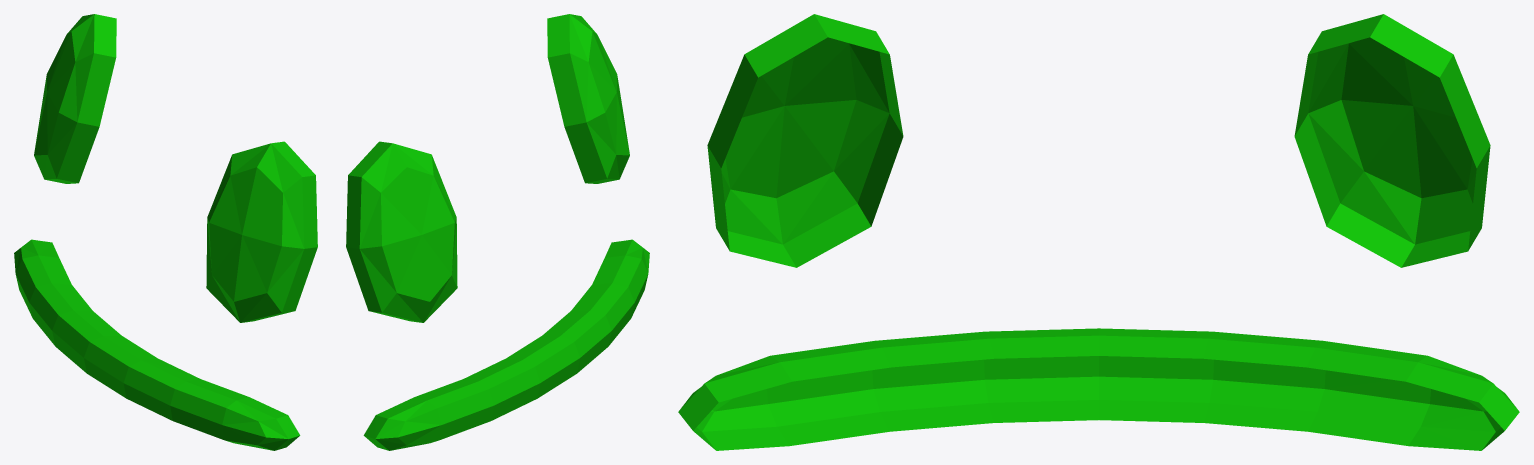
The model's file is Boss2.fbx.
3 renders of one model, left to right at view 1: azimuth 30°, elevation 25°; view 2: azimuth 150°, elevation 25°; view 3: azimuth 270°, elevation 25°, orthographic. The views are drawn at different scales.
Visible parts, largest first — view 1: Sphere; view 2: Sphere; view 3: Sphere.
Part boxes in pixels (x1,y1,x2,y2): Sphere: (14,14,317,450); Sphere: (346,14,649,450); Sphere: (678,14,1519,450).
Size of the model in its own units: 28.56 by 61.16 by 102.
